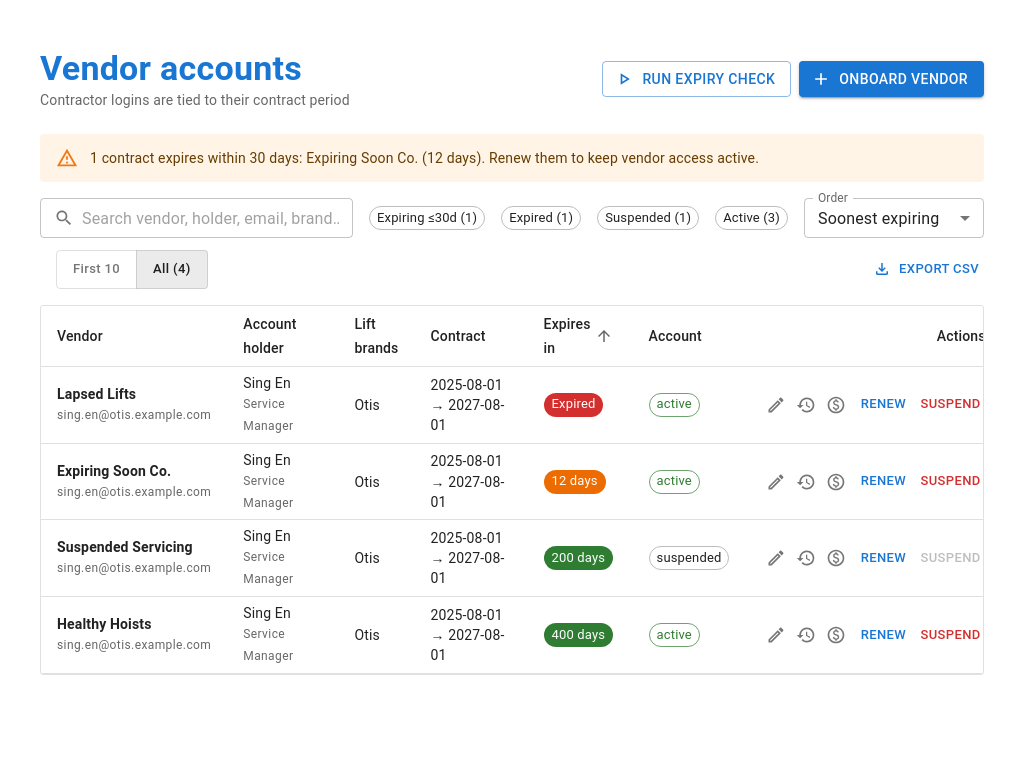
Test: AdminVendorPage — filters › a renewal date on or before the current contract end is rejected inline
The image size is (1024, 768).
Check: the text "Healthy Hoists" is shown, box [57,616,152,632]
Step 1. Click the button "Renew" in the row of "Lapsed Lifts" → [884, 405], box [852,389,916,420]
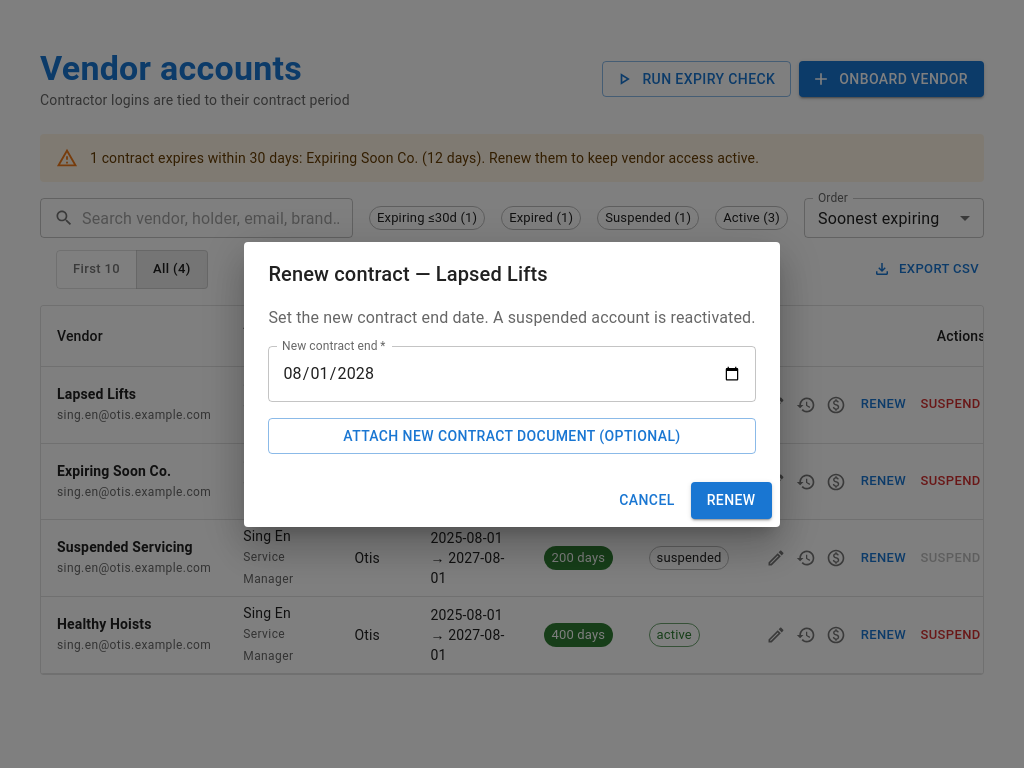
Check: the button "Renew" is enabled, box [691,482,772,518]
# A date before the current end is not a renewal — inline error, no request.
Step 2. Type "2026-01-01" into the date field labelled "New contract end *" → [512, 374], box [268,346,756,402]
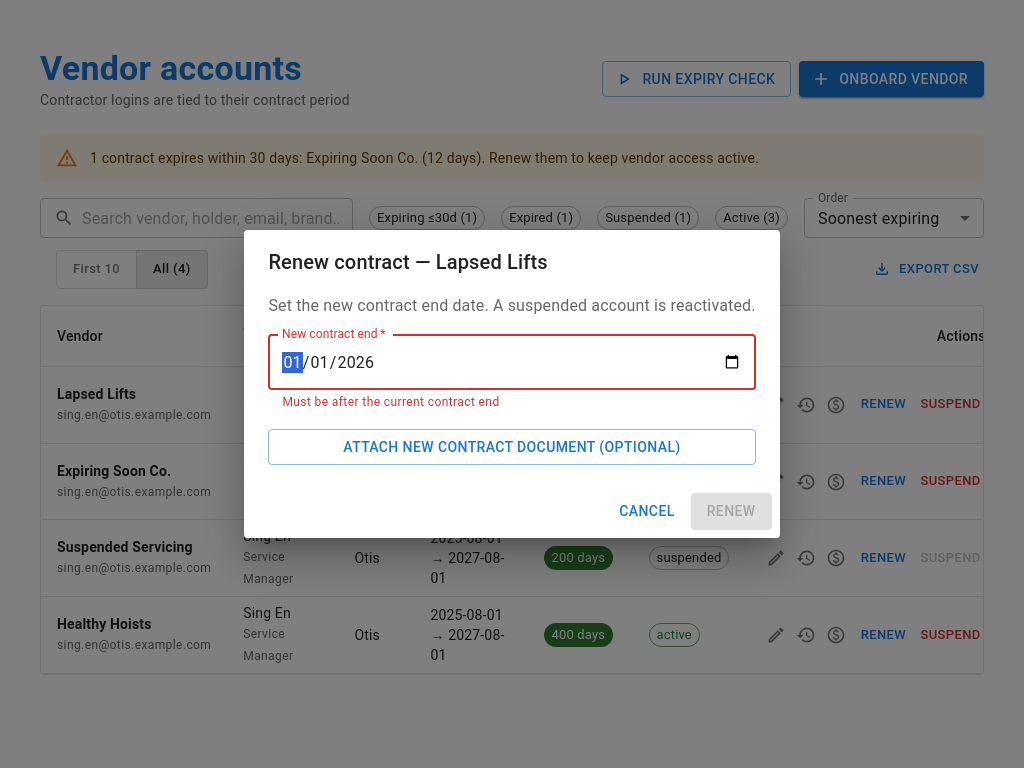
Check: the button "Renew" is disabled, box [691,494,772,530]
Check: the text "Must be after the current contract end" is shown, box [282,395,500,409]
